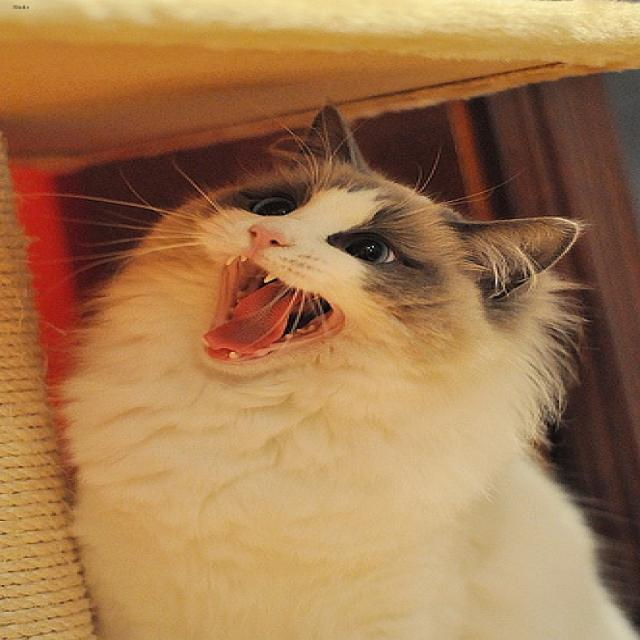cat: (162, 102, 574, 374)
